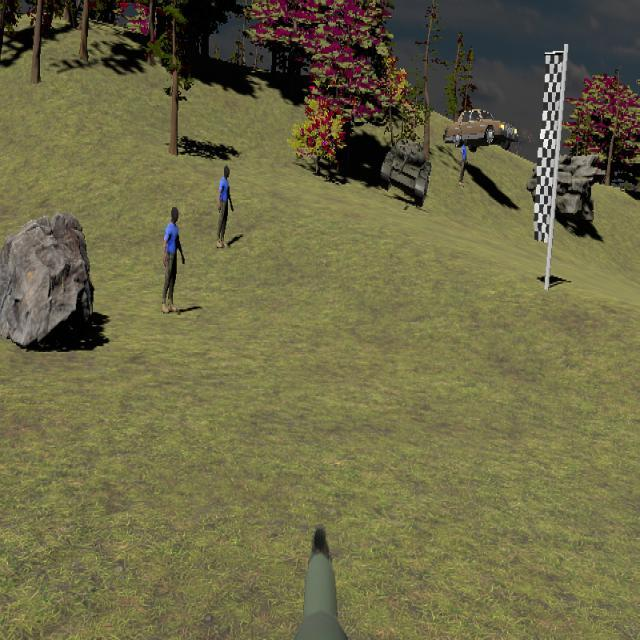Human: (162, 206, 185, 314), (217, 166, 233, 248)
Tank: (380, 139, 431, 208)
car: (443, 108, 519, 150)
